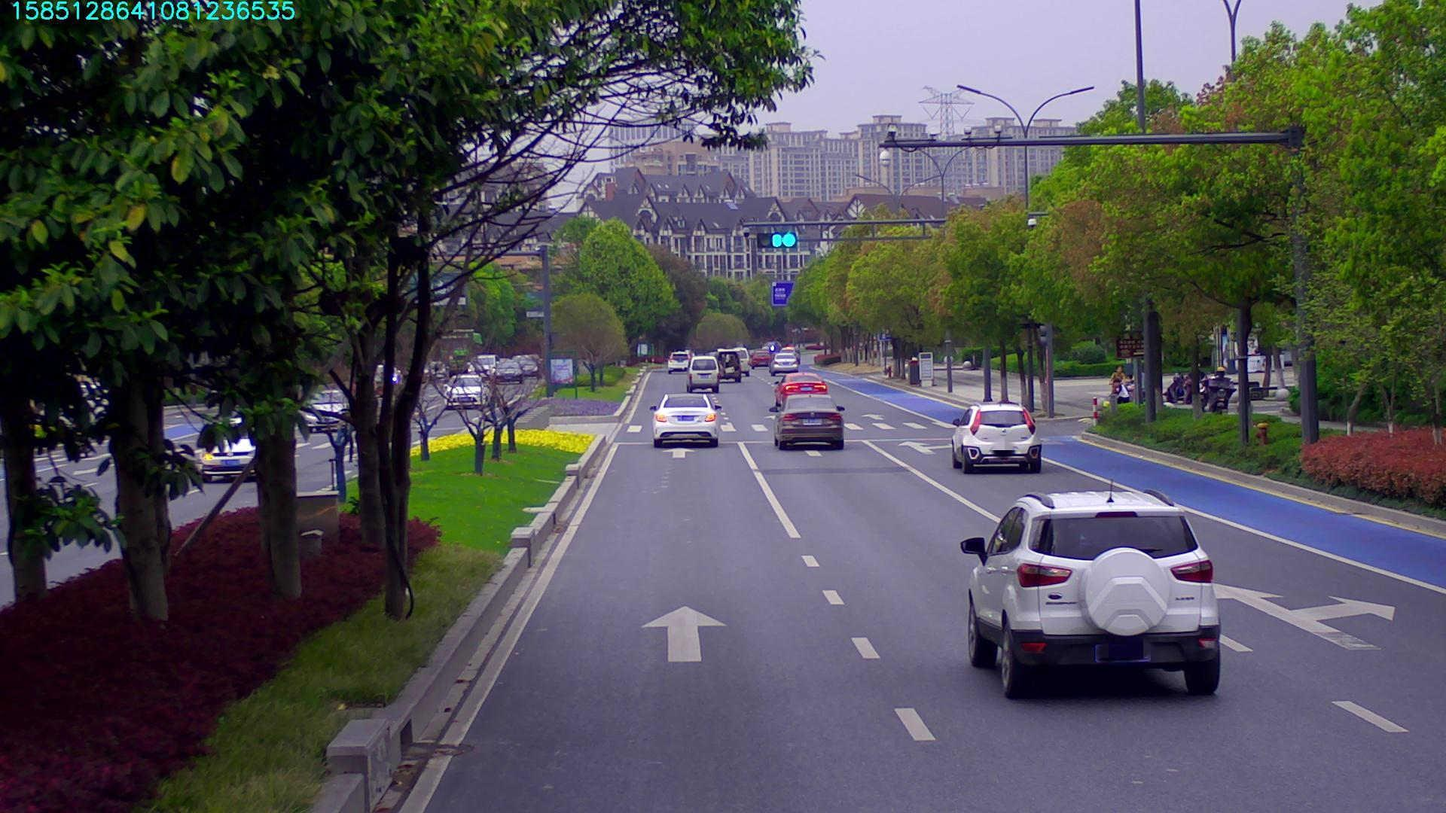green: (752, 233, 799, 251)
